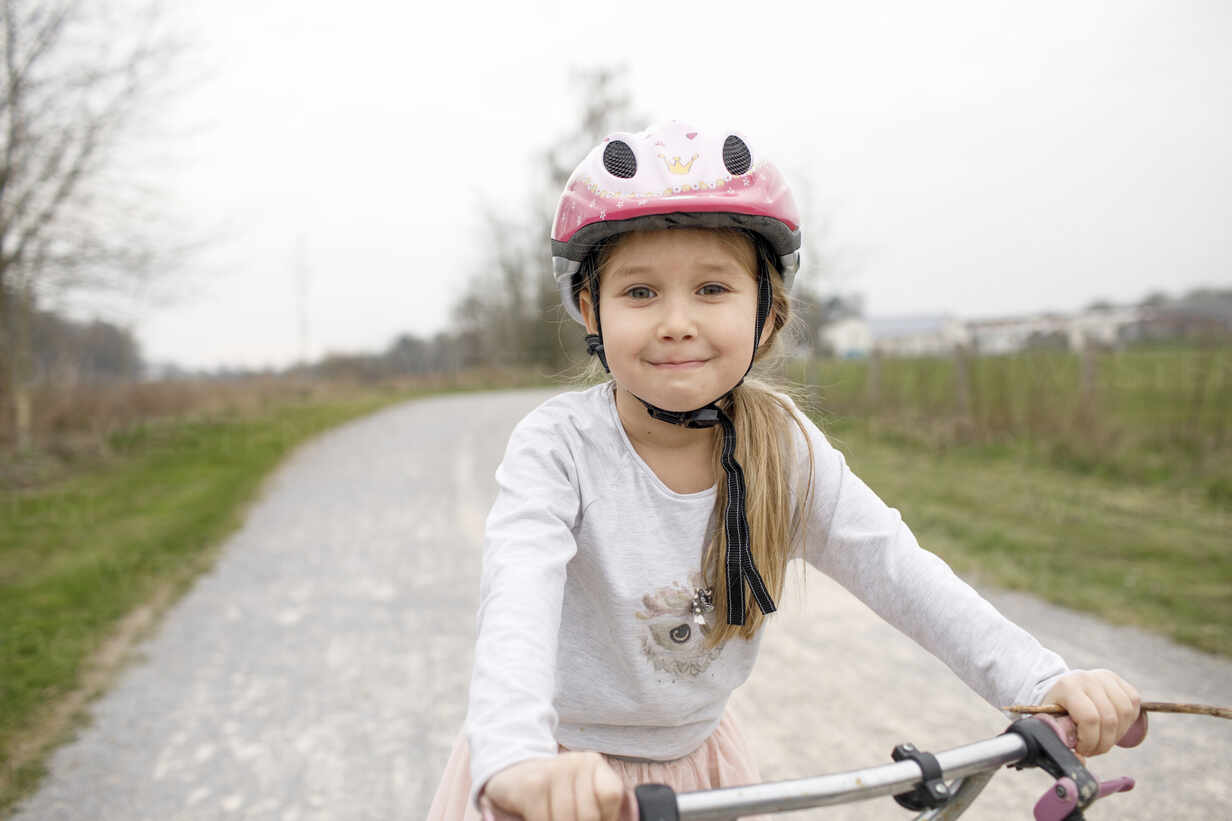helmet: (552, 121, 802, 413)
